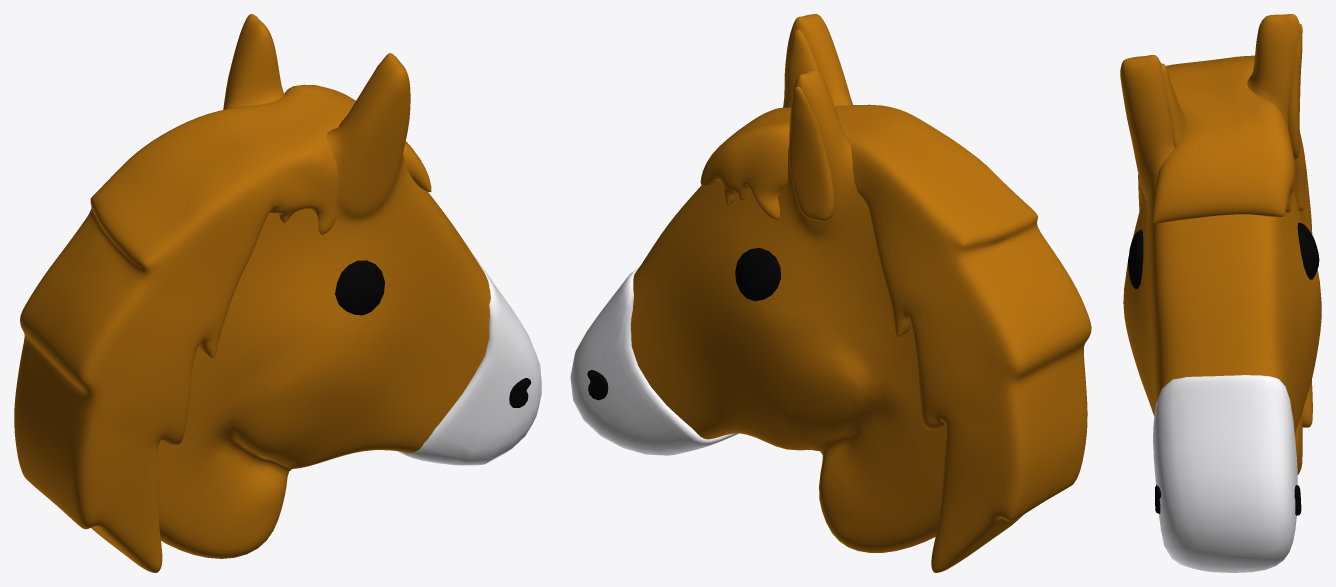
The model's file is horse FBX.FBX.
3 views of the same model, side by side, from view 1: azimuth 30°, elevation 25°; view 2: azimuth 150°, elevation 25°; view 3: azimuth 270°, elevation 25° (orthographic). The views are drawn at different scales.
Visible parts, largest first — view 1: Group53749, Group64620, Horse5, Horse4; view 2: Group53749, Group64620, Horse5, Horse2, Horse4; view 3: Group53749, Horse5, Group64620, Horse2, Horse4, Horse6.
Part boxes in pixels (x1,y1,x2,y2): Group53749: [158, 14, 490, 558]; Group64620: [14, 84, 431, 572]; Horse5: [398, 255, 541, 465]; Horse4: [335, 260, 384, 315]; Group53749: [631, 14, 946, 552]; Group64620: [700, 104, 1091, 572]; Horse5: [570, 267, 738, 455]; Horse2: [785, 29, 834, 221]; Horse4: [735, 248, 781, 301]; Group53749: [1120, 14, 1321, 474]; Horse5: [1153, 375, 1297, 572]; Group64620: [1138, 55, 1312, 427]; Horse2: [1161, 23, 1302, 159]; Horse4: [1128, 222, 1319, 289]; Horse6: [1155, 485, 1301, 515].
Size of the model in its own units: 20.17 by 19.19 by 7.07.
